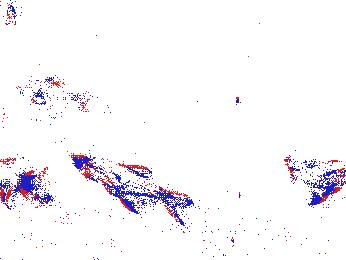red belly glassfish: (3, 1, 19, 32)
redtail glassfish: (67, 150, 184, 217), (287, 157, 346, 188), (1, 158, 32, 194)
